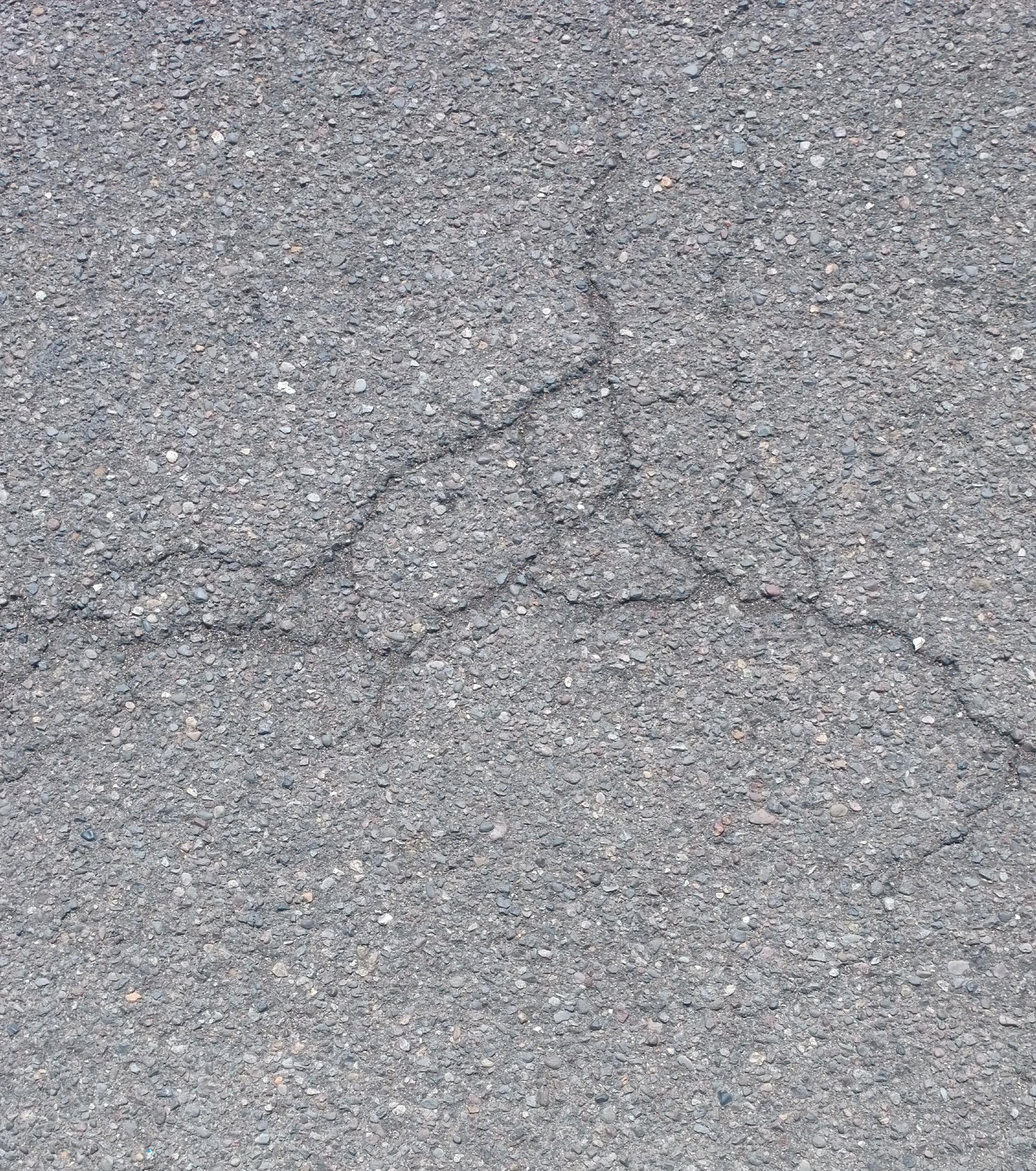GRIETA: (705, 3, 789, 327), (857, 621, 1036, 765), (580, 0, 633, 339)
PIEL DE COCODRILO: (0, 335, 881, 805)
